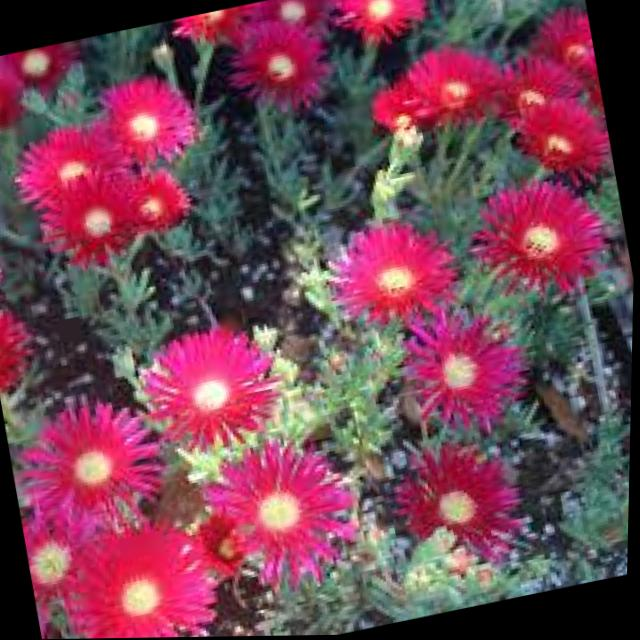Flower: (121, 307, 291, 465), (10, 383, 175, 543), (193, 438, 363, 583), (56, 513, 248, 639), (336, 212, 464, 325), (412, 323, 537, 432), (396, 448, 514, 563), (87, 72, 207, 182), (24, 497, 128, 623), (9, 116, 134, 217), (46, 169, 157, 274), (226, 14, 334, 116), (502, 188, 595, 298), (464, 50, 582, 136), (413, 33, 500, 126), (515, 106, 605, 186), (521, 10, 599, 100), (121, 173, 193, 236), (6, 46, 81, 92), (0, 72, 30, 133)
